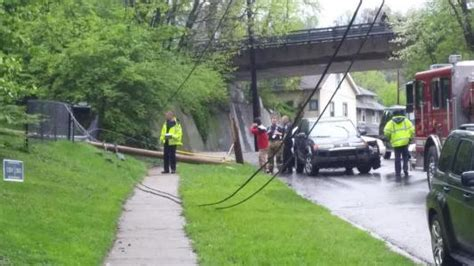pole: (224, 1, 286, 168)
